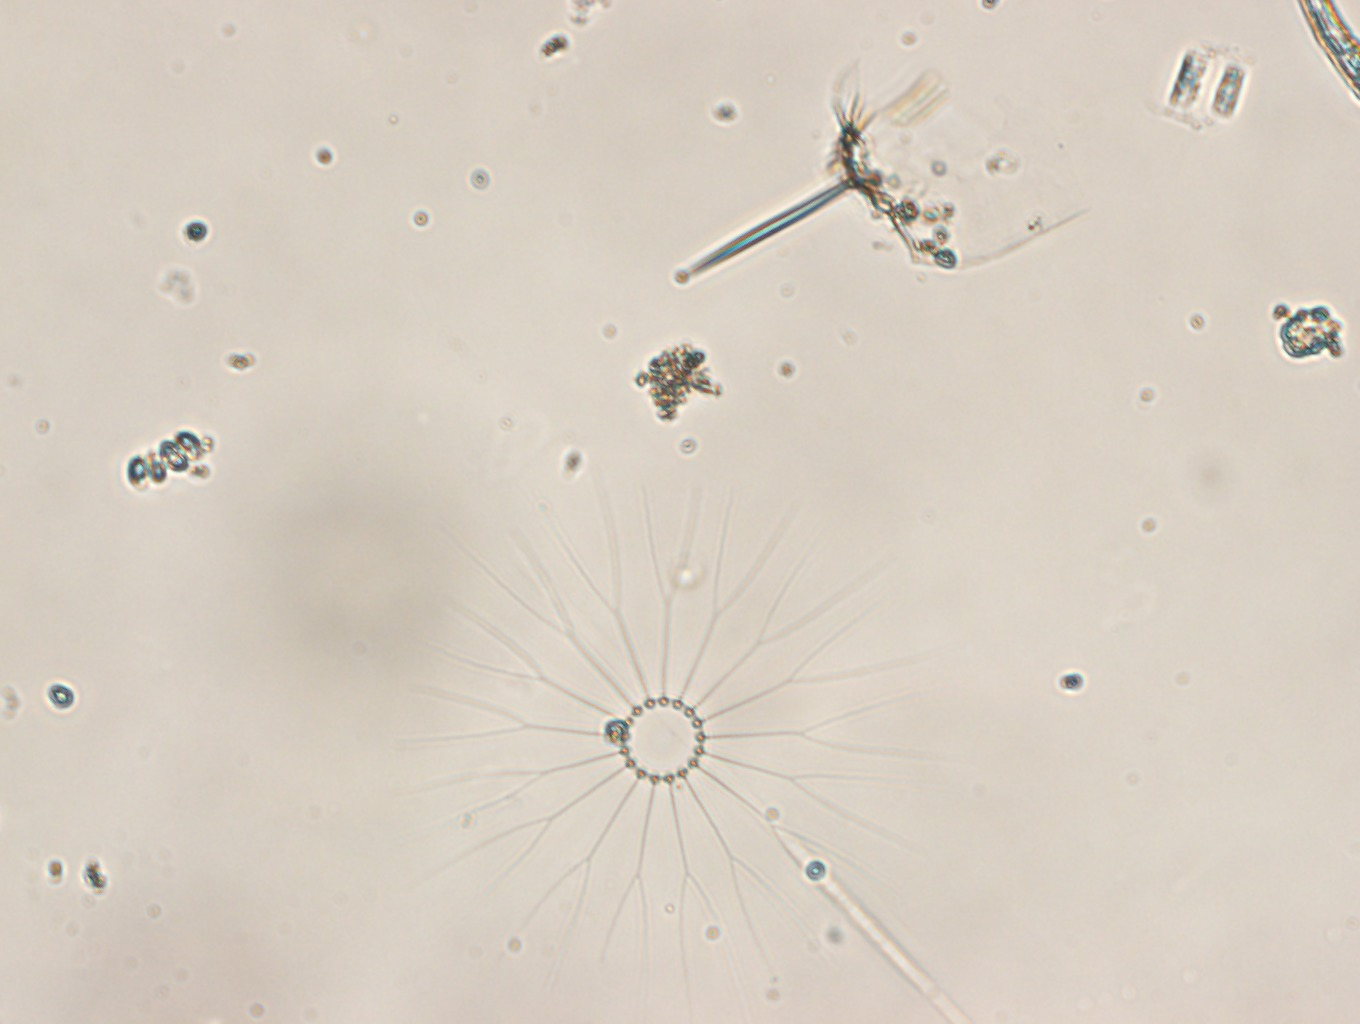bacteriastrum: (417, 474, 935, 992)
ditylum: (672, 48, 1123, 291)
